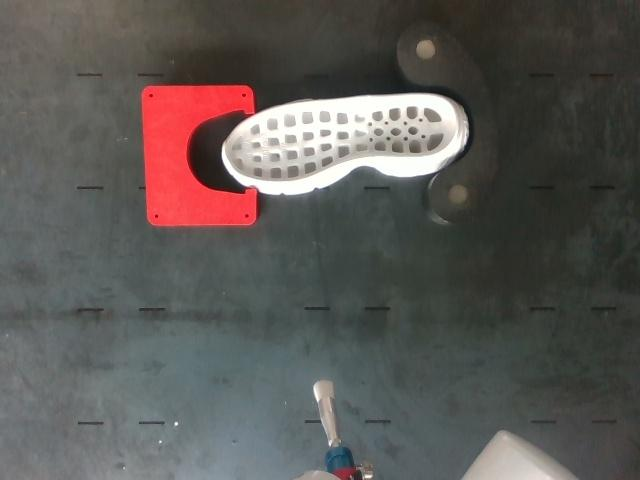shoes: (224, 94, 457, 182)
